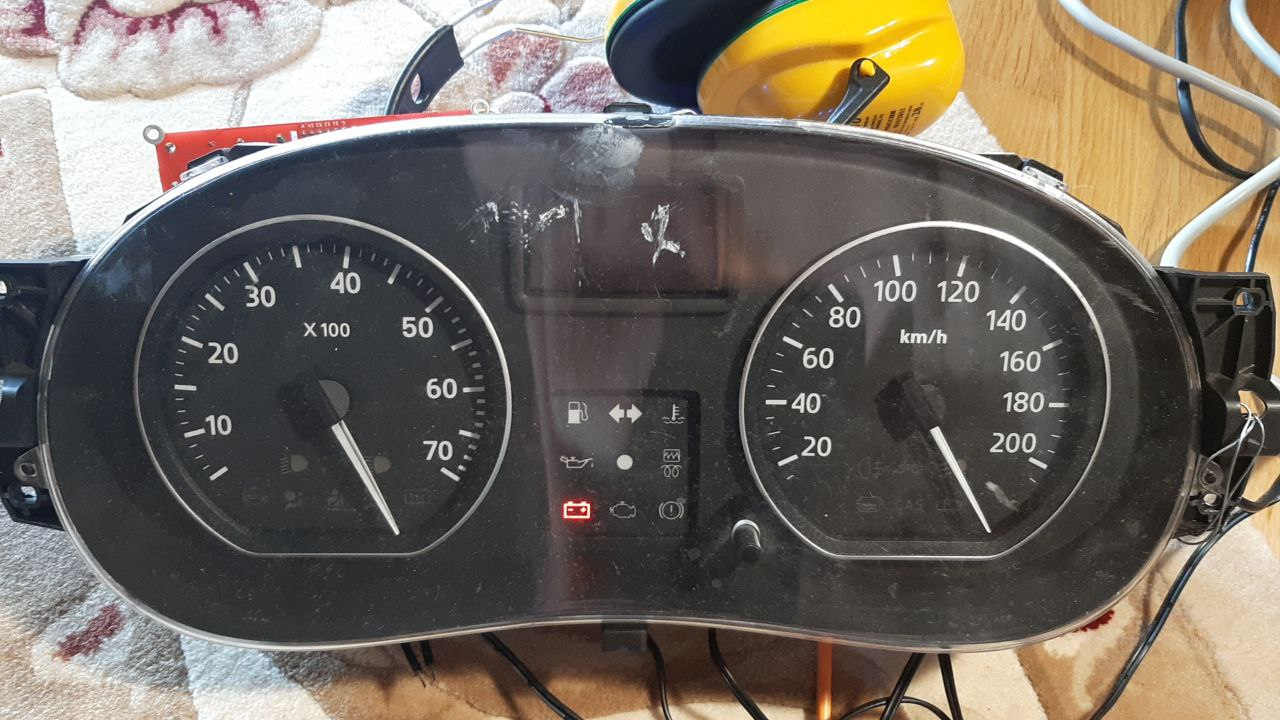accumulator: (557, 500, 595, 521)
